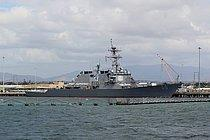MIL_Ship: (25, 43, 183, 98)
